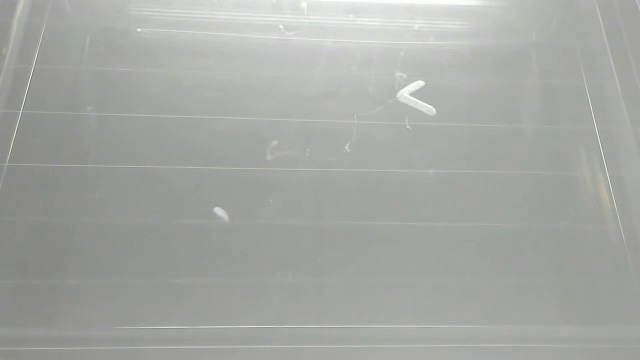alpha: (395, 76, 439, 118), (206, 200, 235, 226)
